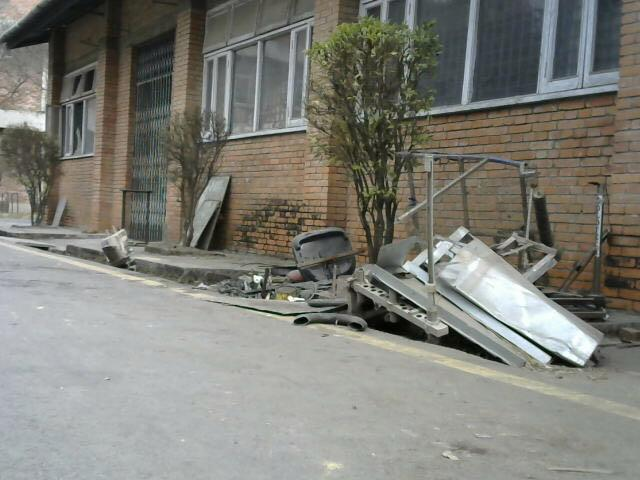Building: (1, 0, 634, 265)
Road: (0, 271, 640, 480)
Tree: (314, 20, 450, 251), (1, 126, 71, 219)
